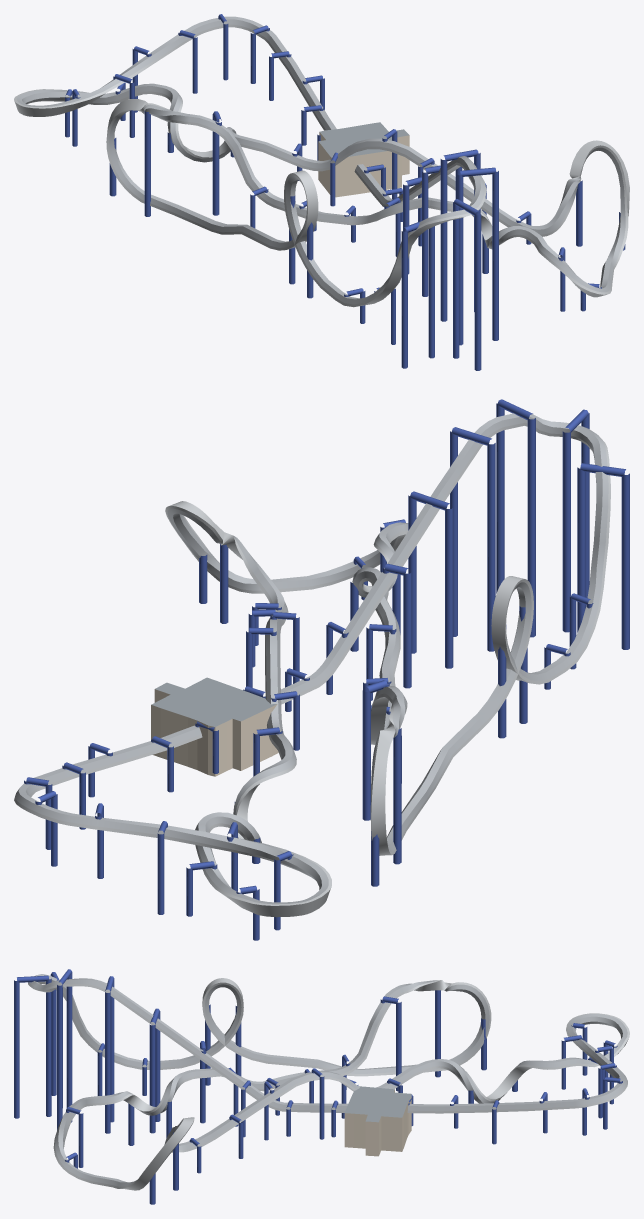
3 renders of one model, top to bottom at view 1: azimuth 30°, elevation 25°; view 2: azimuth 150°, elevation 25°; view 3: azimuth 270°, elevation 25°, orthographic. The views are drawn at different scales.
Parts seen in each view (by area): view 1: afterburn-carowinds; view 2: afterburn-carowinds; view 3: afterburn-carowinds.
Boxes of the visible parts, x1,y1,x2,y2 form: afterburn-carowinds: (14, 14, 629, 370); afterburn-carowinds: (14, 399, 629, 940); afterburn-carowinds: (14, 969, 629, 1204).
Bounding box in the file's own units: 97.53 × 44.25 × 161.
